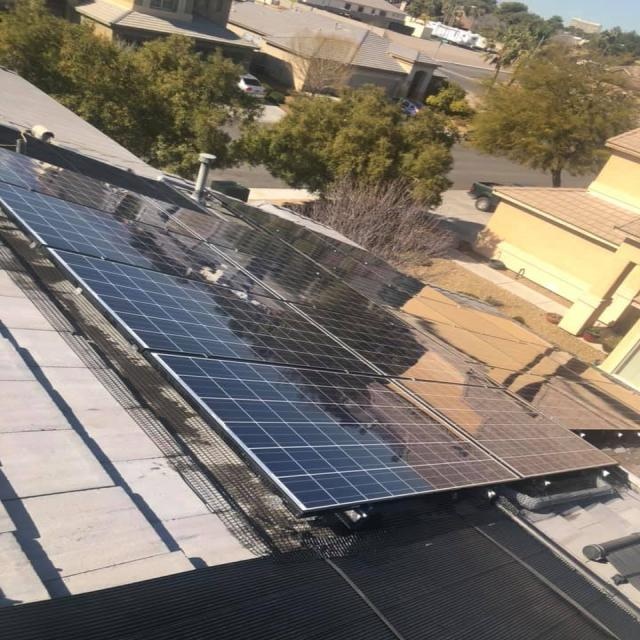clean-solar-panel: (1, 140, 628, 515)
